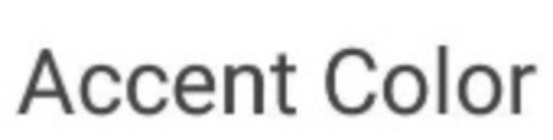TextView: (1, 1, 552, 139)
